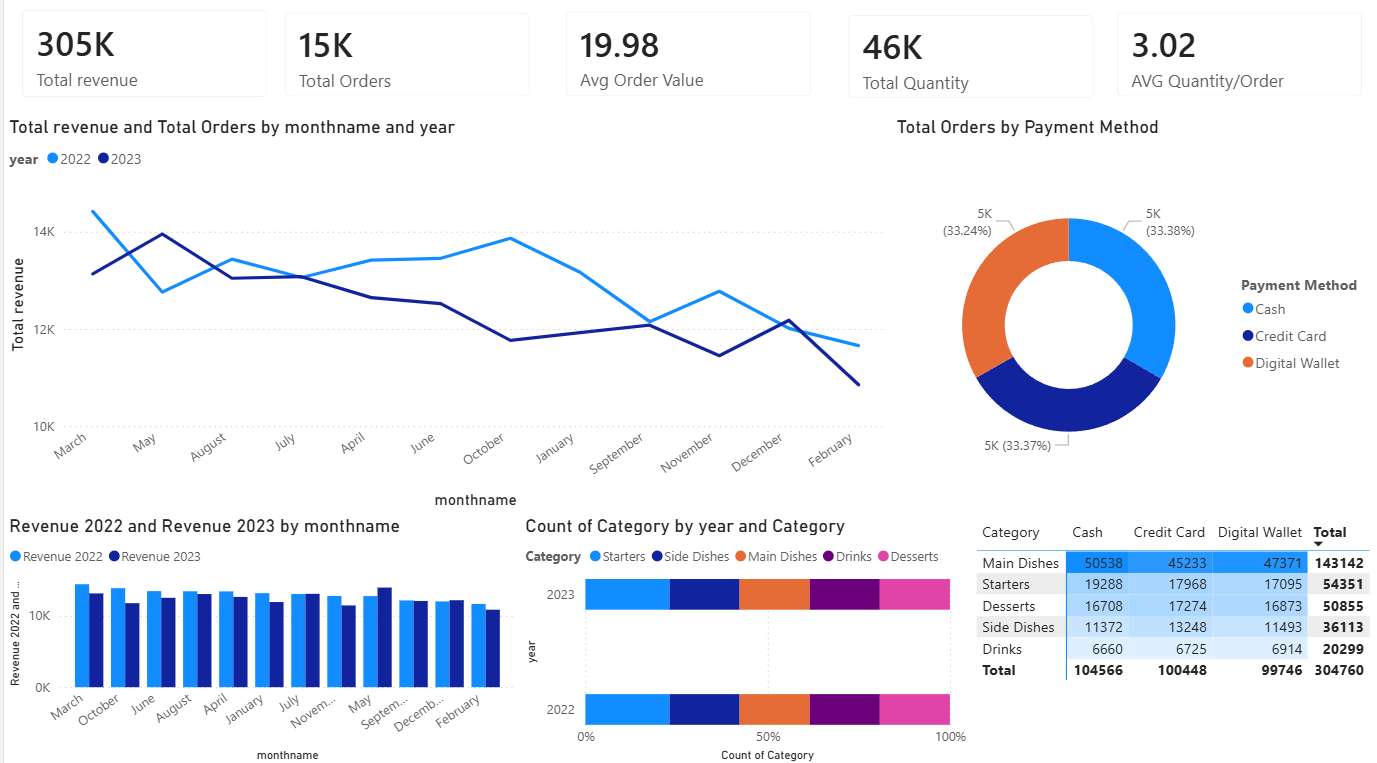

The dashboard page shown, as its layout file describes it:
{"tool":"powerbi","page":{"name":"Page 1","canvas":[1280,720],"ordinal":0},"visuals":[{"type":"cardVisual","fields":{"Data":["salesfact.Total revenue"]},"box":[0,0,262.1,115.3],"z":0},{"type":"cardVisual","fields":{"Data":["salesfact.Total Orders"]},"box":[244.3,2.7,262.1,112.5],"z":1000},{"type":"cardVisual","fields":{"Data":["salesfact.Avg Order Value"]},"box":[506.3,1.4,262.1,113.9],"z":2000},{"type":"cardVisual","fields":{"Data":["salesfact.Total Quantity"]},"box":[768.4,4.1,262.1,111.1],"z":3000},{"type":"cardVisual","fields":{"Data":["salesfact.AVG Quantity/Order"]},"box":[1018.2,2.7,262.1,112.5],"z":4000},{"type":"lineChart","fields":{"Category":["timedim.monthname"],"Y":["salesfact.Total revenue"],"Series":["timedim.year"]},"box":[0,115.3,826.1,370.5],"z":5000},{"type":"donutChart","fields":{"Category":["paymentdim.Payment Method"],"Y":["salesfact.Total Orders"]},"box":[826.1,115.3,454.2,370.5],"z":6000},{"type":"clusteredColumnChart","fields":{"Category":["timedim.monthname"],"Y":["salesfact.Revenue 2022","salesfact.Revenue 2023"]},"box":[0,485.8,480.3,234.6],"z":7000},{"type":"hundredPercentStackedBarChart","fields":{"Category":["timedim.year"],"Series":["itemdim.Category"],"Y":["CountNonNull(itemdim.Category)"]},"box":[480.3,485.8,419.9,234.6],"z":8000},{"type":"pivotTable","fields":{"Rows":["itemdim.Category"],"Columns":["paymentdim.Payment Method"],"Values":["salesfact.Total revenue"]},"box":[900.2,485.8,380.1,234.6],"z":9000}]}

Visuals, with their boxes in screenshot pixels (x1, y1, x2, y2), scaled from the page's 1280x720 canvas onto the 1377x763 screenshot:
cardVisual - salesfact.Total revenue: (left=0, top=0, right=282, bottom=122)
cardVisual - salesfact.Total Orders: (left=263, top=3, right=545, bottom=122)
cardVisual - salesfact.Avg Order Value: (left=545, top=1, right=827, bottom=122)
cardVisual - salesfact.Total Quantity: (left=827, top=4, right=1109, bottom=122)
cardVisual - salesfact.AVG Quantity/Order: (left=1095, top=3, right=1376, bottom=122)
lineChart - timedim.monthname x salesfact.Total revenue: (left=0, top=122, right=889, bottom=515)
donutChart - paymentdim.Payment Method x salesfact.Total Orders: (left=889, top=122, right=1376, bottom=515)
clusteredColumnChart - timedim.monthname x salesfact.Revenue 2022: (left=0, top=515, right=517, bottom=762)
hundredPercentStackedBarChart - timedim.year x itemdim.Category: (left=517, top=515, right=968, bottom=762)
pivotTable - itemdim.Category x paymentdim.Payment Method: (left=968, top=515, right=1376, bottom=762)
